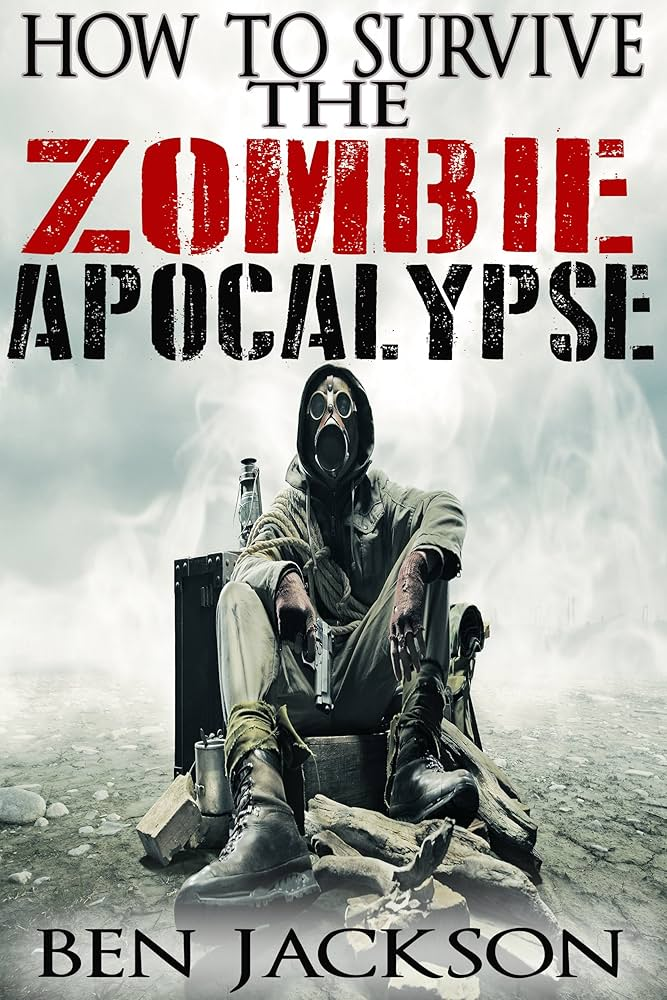-: (178, 362, 533, 910)
